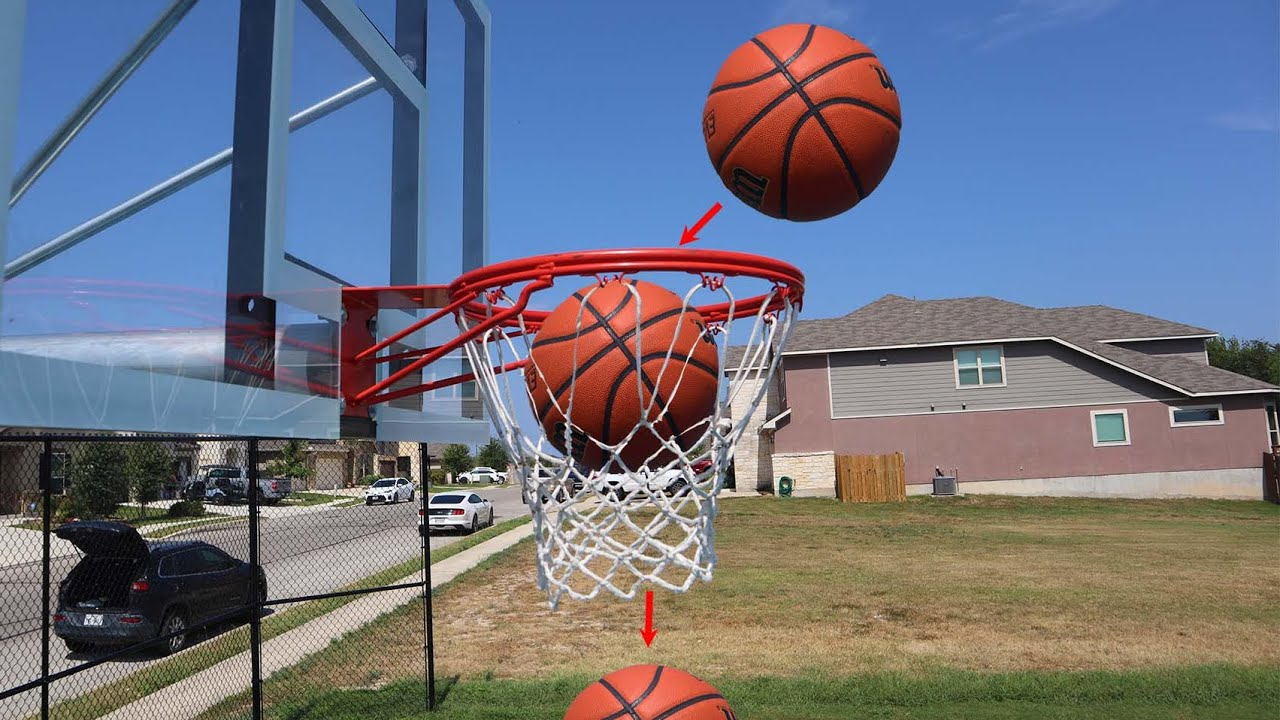MadeBasket: (453, 250, 801, 591)
